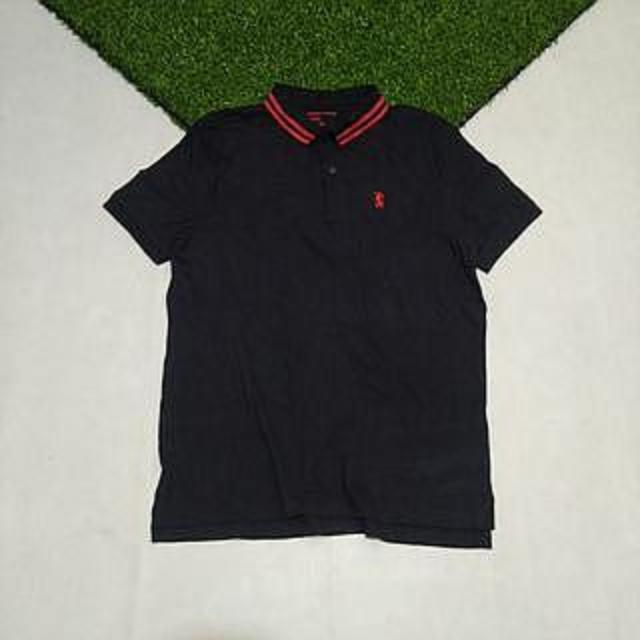T_SHIRT: (84, 79, 562, 558)
